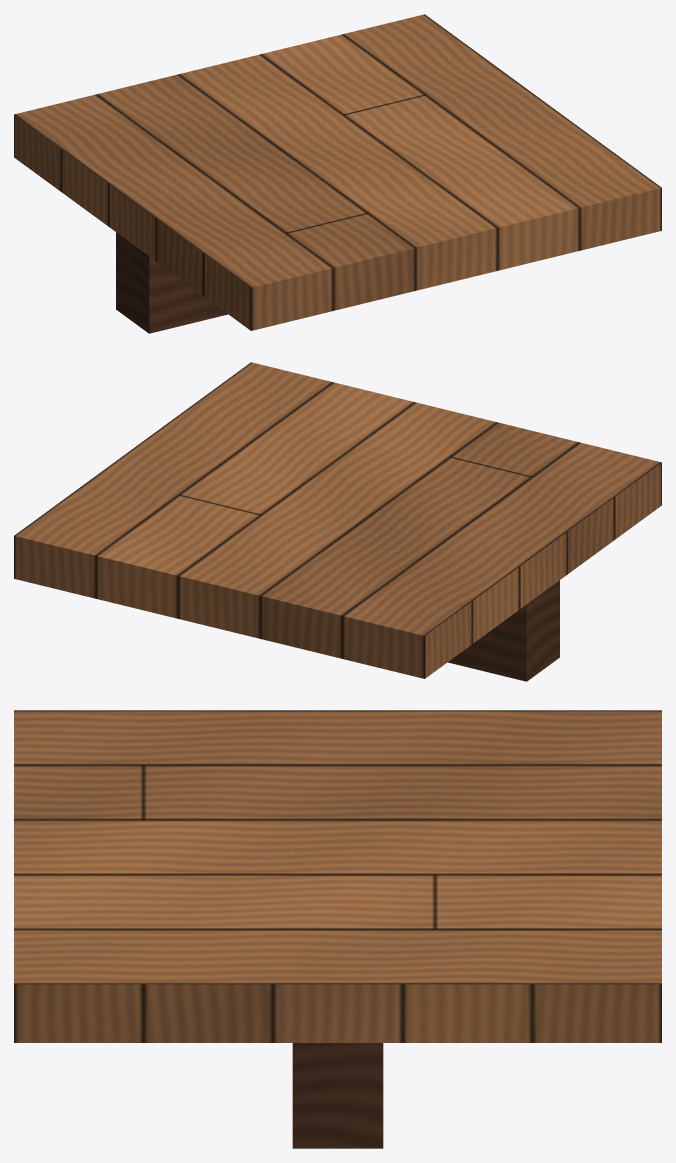
Rendered from Deck_1x1x1.fbx.
The picture shows the model from 3 angles, top to bottom: view 1: azimuth 30°, elevation 25°; view 2: azimuth 150°, elevation 25°; view 3: azimuth 270°, elevation 25°; orthographic projection. The views are drawn at different scales.
Parts seen in each view (by area): view 1: Deck_1x1x1; view 2: Deck_1x1x1; view 3: Deck_1x1x1.
Part boxes in pixels (x1,y1,x2,y2): Deck_1x1x1: (14, 14, 661, 333); Deck_1x1x1: (14, 362, 661, 681); Deck_1x1x1: (14, 710, 661, 1148).
Bounding box in the file's own units: 1 × 0.28 × 1.
1 material, 1 textured.
